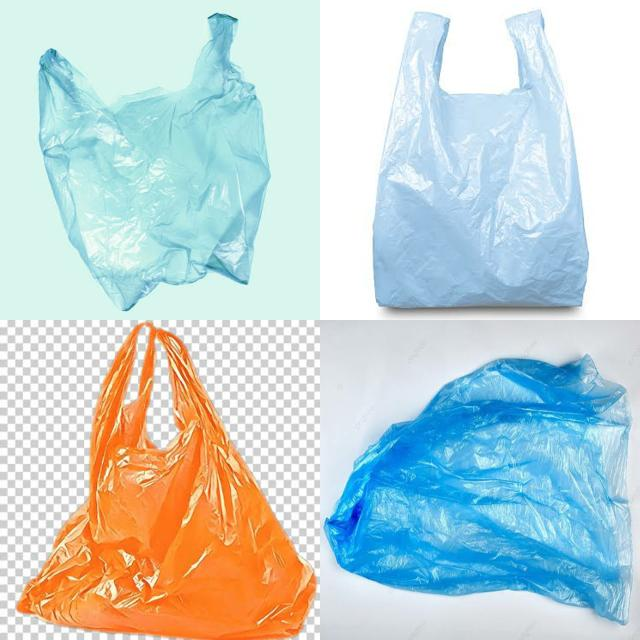Single-layer Plastic: (18, 322, 316, 640), (325, 355, 632, 622), (39, 14, 270, 310), (374, 11, 589, 309)
